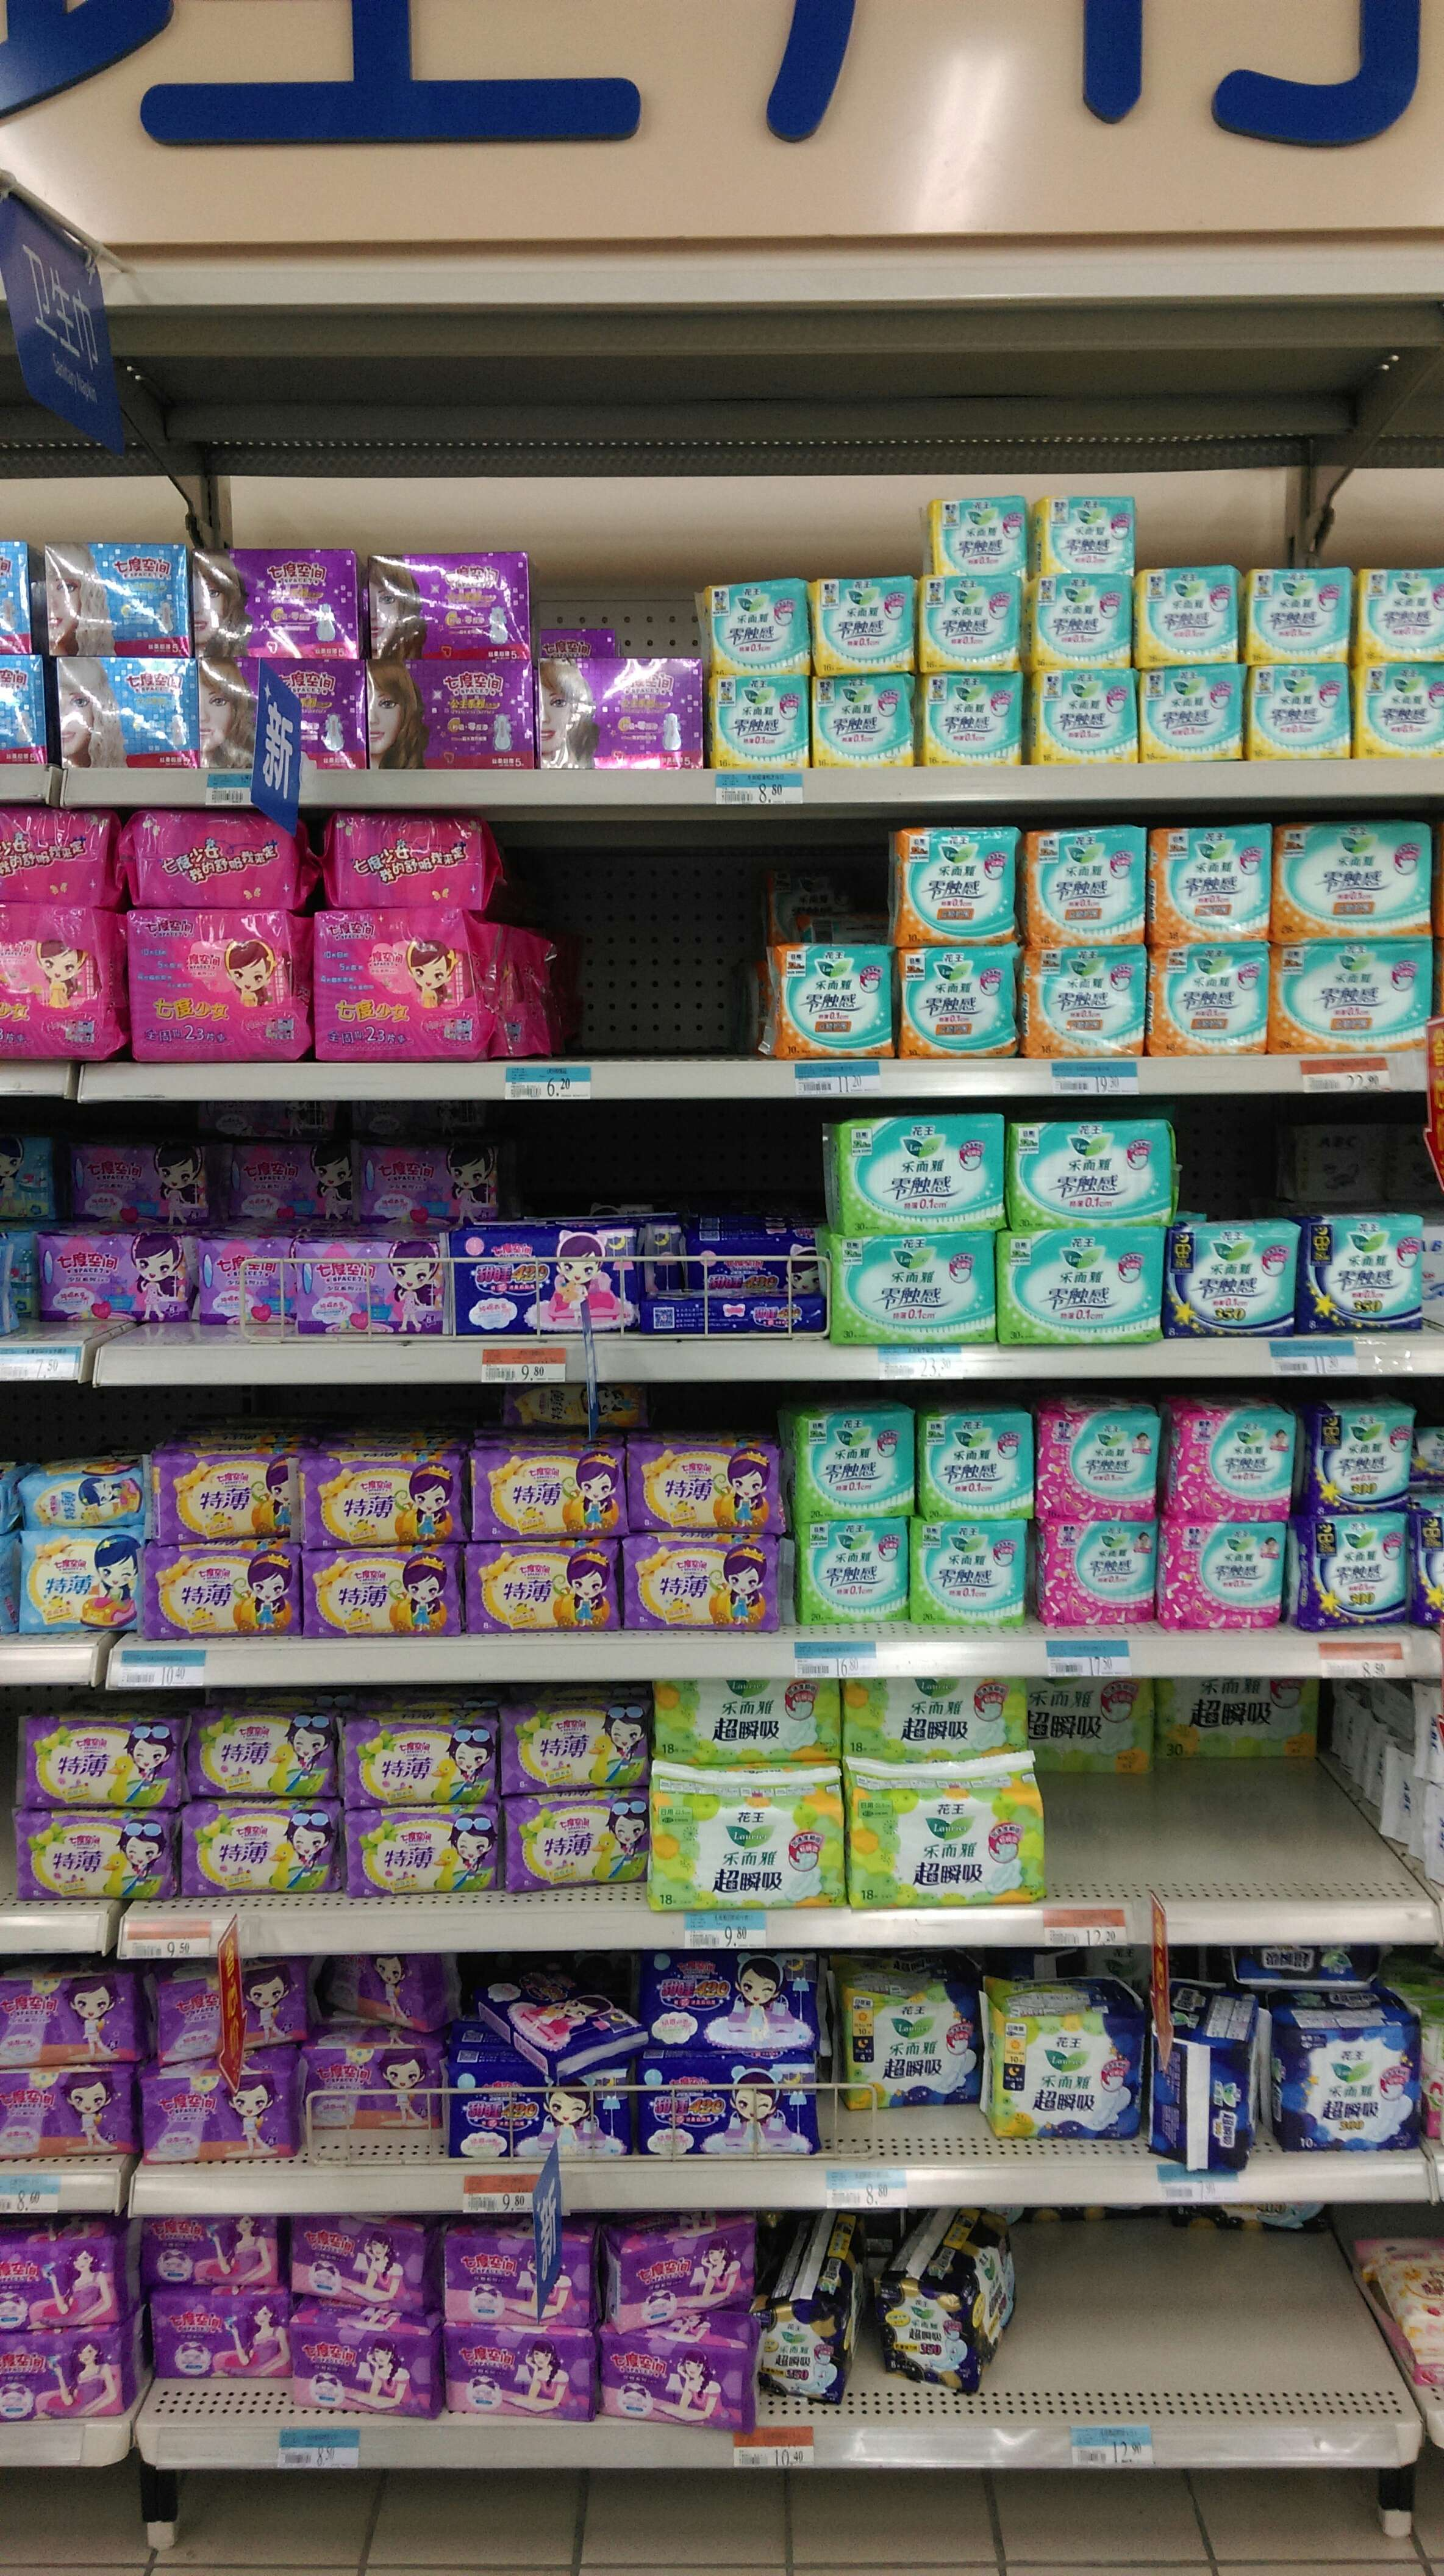Misplacement: (1042, 1679, 1322, 1904)
Out-of-stock: (577, 847, 738, 1060)
